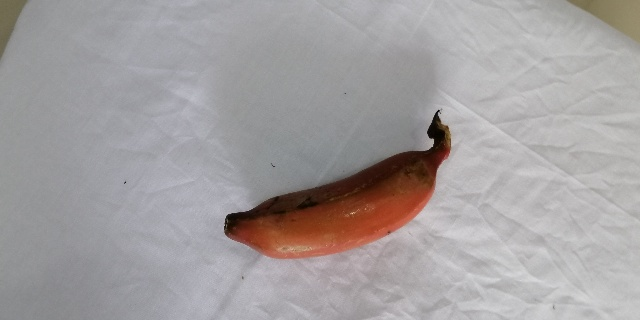banana_red: (221, 116, 459, 258)
